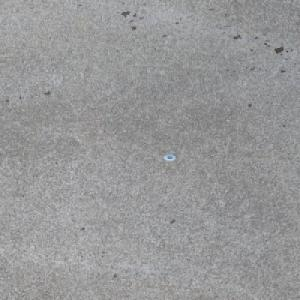Washer: (163, 153, 176, 161)
